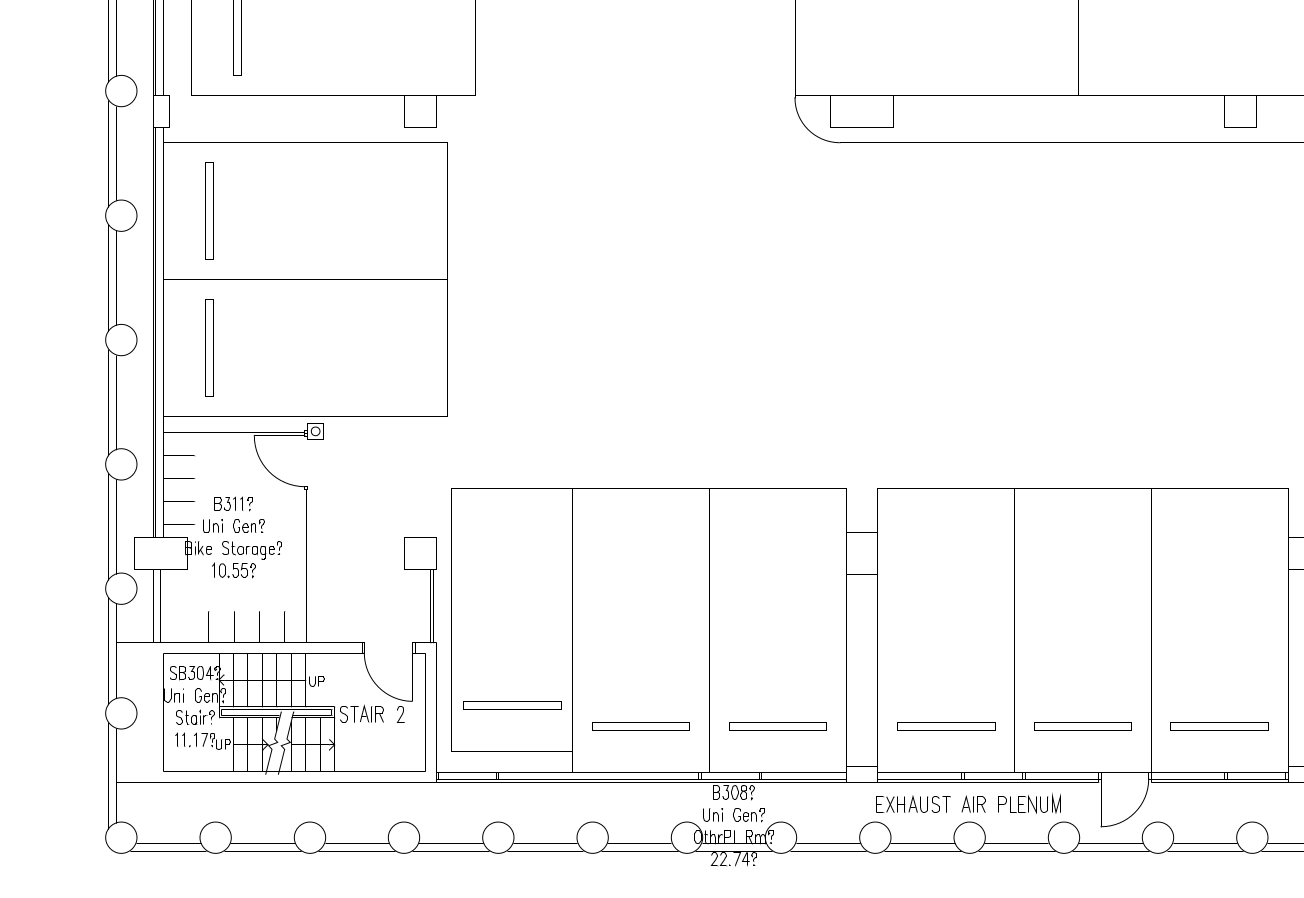door: (251, 431, 311, 503), (356, 638, 415, 704), (1091, 767, 1150, 833)
